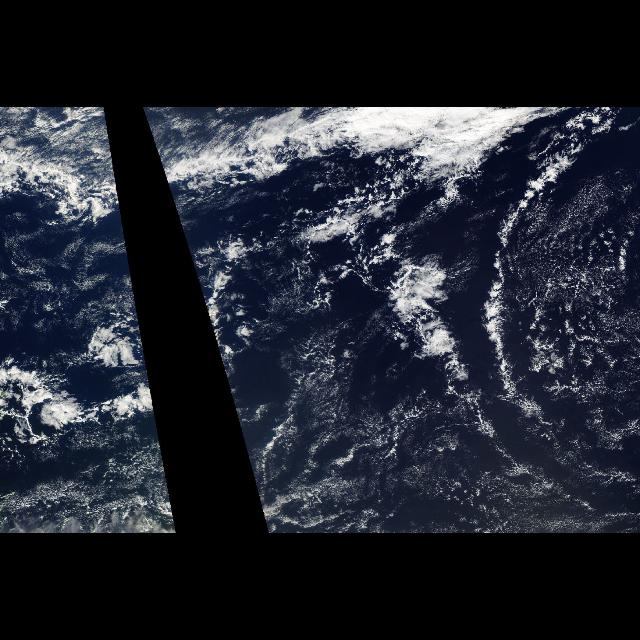Sugar: (251, 158, 634, 534), (2, 448, 175, 530)
